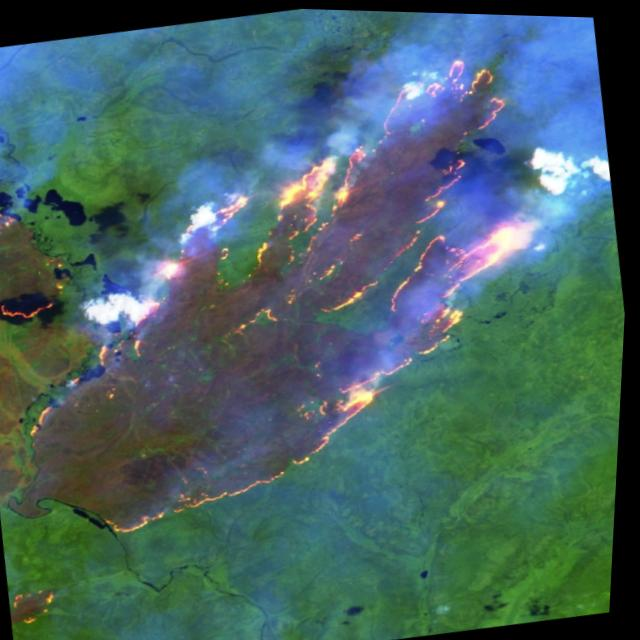fire: (0, 27, 600, 564), (11, 575, 87, 640)
